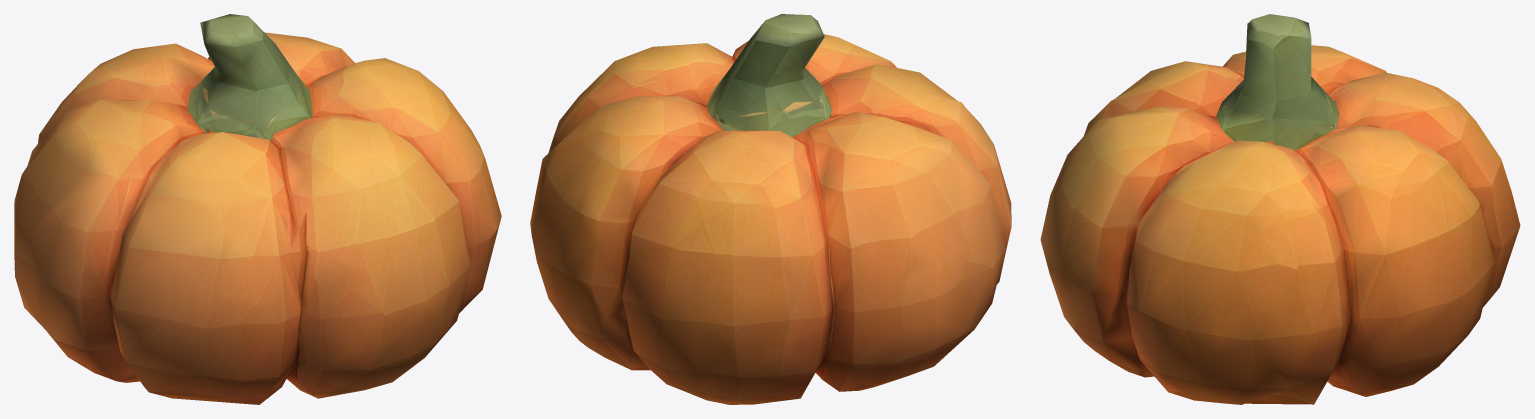
File: Pumpkin.fbx
3 renders of one model, left to right at view 1: azimuth 30°, elevation 25°; view 2: azimuth 150°, elevation 25°; view 3: azimuth 270°, elevation 25°, orthographic. The views are drawn at different scales.
Visible parts, largest first — view 1: texture_mapping; view 2: texture_mapping; view 3: texture_mapping.
Part boxes in pixels (bbox=[...]): texture_mapping: bbox=[14, 14, 501, 404]; texture_mapping: bbox=[530, 14, 1011, 404]; texture_mapping: bbox=[1040, 14, 1520, 404].
Size of the model in its own units: 0.9999 by 0.9876 by 0.7199.
1 material, 1 textured.
